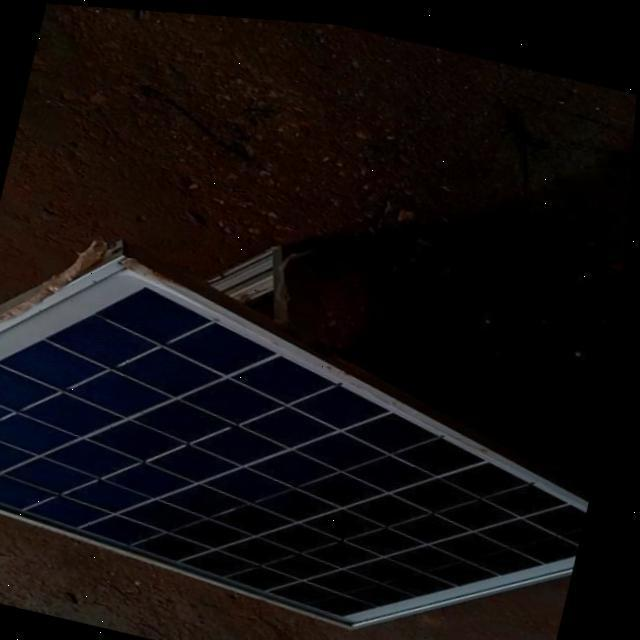Normal Solar Panel: (0, 217, 627, 640)
